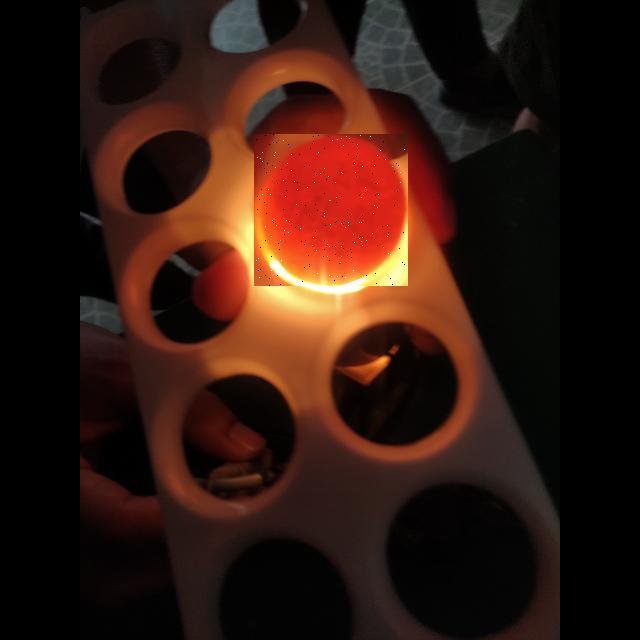A - Good: (254, 134, 408, 286)
